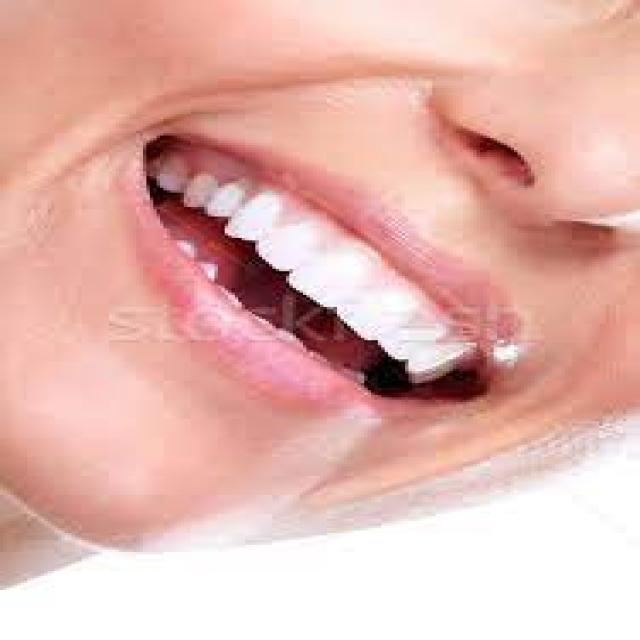tooth: (300, 250, 364, 295), (351, 290, 408, 319), (266, 226, 324, 252), (208, 183, 242, 226), (160, 148, 191, 195), (242, 190, 276, 228), (385, 323, 432, 348), (184, 174, 214, 200), (398, 371, 460, 383), (402, 355, 473, 364)
